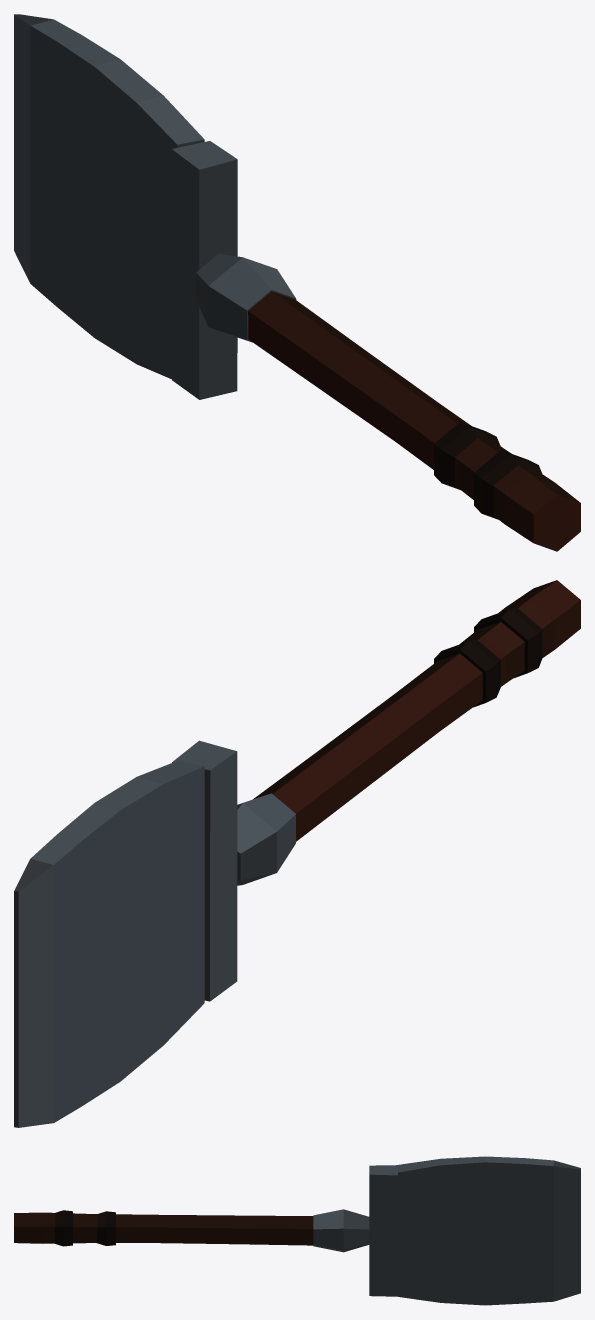
File: shovel_c.obj
The picture shows the model from 3 angles, top to bottom: view 1: azimuth 30°, elevation 25°; view 2: azimuth 150°, elevation 25°; view 3: azimuth 270°, elevation 25°; orthographic projection. The views are drawn at different scales.
Visible parts, largest first — view 1: shovel_blade, shovel_handle, shovel_collar, shovel_socket, shovel_grip; view 2: shovel_blade, shovel_handle, shovel_collar, shovel_socket, shovel_grip; view 3: shovel_blade, shovel_handle, shovel_collar, shovel_socket, shovel_grip.
Part boxes in pixels (x1,y1,x2,y2): shovel_blade: [14, 14, 204, 379]; shovel_handle: [248, 291, 580, 551]; shovel_collar: [172, 141, 237, 399]; shovel_socket: [196, 253, 296, 342]; shovel_grip: [434, 422, 542, 519]; shovel_blade: [14, 761, 204, 1127]; shovel_handle: [253, 580, 580, 841]; shovel_collar: [172, 740, 237, 1001]; shovel_socket: [237, 793, 295, 885]; shovel_grip: [434, 608, 542, 707]; shovel_blade: [398, 1156, 580, 1305]; shovel_handle: [14, 1212, 313, 1245]; shovel_collar: [369, 1165, 397, 1296]; shovel_socket: [313, 1209, 369, 1252]; shovel_grip: [54, 1210, 115, 1246].
Size of the model in its own units: 0.0522 by 0.1984 by 0.712.
